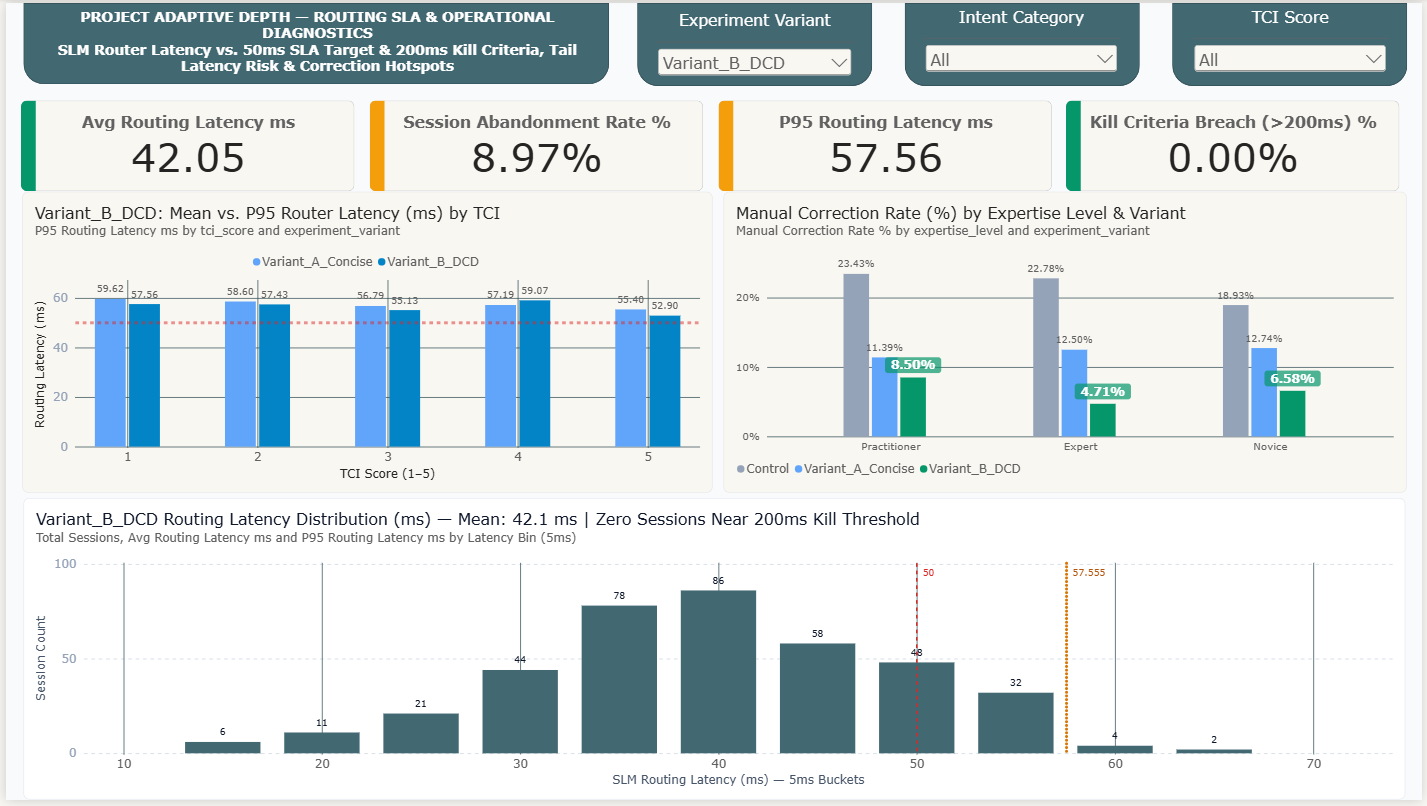

The page's visual inventory and layout, read from the dashboard file:
{"tool":"powerbi","page":{"name":"3. Routing SLA & Ops","canvas":[1920,1080],"ordinal":2},"visuals":[{"type":"shape","box":[24,0,794,110],"z":0,"group":"g6"},{"type":"group","id":"g1","title":"Group 1","box":[856.2,0,318.8,112.5],"z":0},{"type":"shape","box":[1219,0,318.8,112.5],"z":0,"group":"g2"},{"type":"shape","box":[856.2,0,318.8,112.5],"z":1000,"group":"g1"},{"type":"group","id":"g2","title":"Group 2","box":[1219,0,318.8,112.5],"z":1000},{"type":"group","id":"g3","title":"Group 3","box":[1581.7,0,318.3,113.3],"z":2000},{"type":"cardVisual","fields":{"Data":["_Measures.Avg Routing Latency ms"]},"box":[20,132,452.6,124],"z":2000,"group":"g4"},{"type":"group","id":"g4","title":"Group 4","box":[20,132,1870,124],"z":3000},{"type":"cardVisual","fields":{"Data":["_Measures.Session Abandonment Rate %"]},"box":[492.5,132,452.6,124],"z":3000,"group":"g4"},{"type":"textbox","box":[46.1,7.4,752.8,95.7],"z":4000,"group":"g6"},{"type":"cardVisual","fields":{"Data":["_Measures.P95 Routing Latency ms"]},"box":[964.9,132,452.6,124],"z":4000,"group":"g4"},{"type":"group","id":"g5","title":"Group 5","box":[22,256,1876,408],"z":4000},{"type":"group","id":"g6","title":"Group 6","box":[24,0,794,110],"z":5000},{"type":"cardVisual","fields":{"Data":["_Measures.Kill Criteria Breach (>200ms) %"]},"box":[1437.4,132,452.6,124],"z":5000,"group":"g4"},{"type":"clusteredColumnChart","title":"Variant_B_DCD: Mean vs. P95 Router Latency (ms) by TCI","fields":{"Category":["dcd_indian_token_economics_5k (2).tci_score"],"Series":["dcd_indian_token_economics_5k (2).experiment_variant"],"Y":["_Measures.P95 Routing Latency ms"]},"box":[22,256,936,408],"z":6000,"group":"g5"},{"type":"clusteredColumnChart","title":"Variant_B_DCD Routing Latency Distribution (ms) — Mean: 42.1 ms | Zero Sessions Near 200ms Kill Threshold","fields":{"Category":["dcd_indian_token_economics_5k (2).Latency Bin (5ms)"],"Y":["_Measures.Total Sessions"]},"box":[23.9,671.8,1873.6,408.6],"z":6000},{"type":"clusteredColumnChart","title":"Manual Correction Rate (%) by Expertise Level & Variant","fields":{"Category":["dcd_indian_token_economics_5k (2).expertise_level"],"Series":["dcd_indian_token_economics_5k (2).experiment_variant"],"Y":["_Measures.Manual Correction Rate %"]},"box":[972,256,926,408],"z":7000,"group":"g5"},{"type":"slicer","title":"Intent Category","fields":{"Values":["dcd_indian_token_economics_5k (2).intent_category"]},"box":[1243.4,5.6,269,99.1],"z":9000,"group":"g2"},{"type":"slicer","title":"Experiment Variant","fields":{"Values":["dcd_indian_token_economics_5k (2).experiment_variant"]},"box":[880,10,271.4,94.3],"z":10000,"group":"g1"},{"type":"shape","box":[1581.7,0,318.8,112.5],"z":13000,"group":"g3"},{"type":"slicer","title":"TCI Score","fields":{"Values":["dcd_indian_token_economics_5k (2).tci_score"]},"box":[1606.3,4.4,269,99.1],"z":14000,"group":"g3"}]}

Visuals, with their boxes in screenshot pixels (x1, y1, x2, y2), scaled from the page's 1920x1080 canvas onto the 1427x806 screenshot:
shape: {"left": 18, "top": 0, "right": 608, "bottom": 82}
"Group 1" group: {"left": 636, "top": 0, "right": 873, "bottom": 84}
shape: {"left": 906, "top": 0, "right": 1143, "bottom": 84}
shape: {"left": 636, "top": 0, "right": 873, "bottom": 84}
"Group 2" group: {"left": 906, "top": 0, "right": 1143, "bottom": 84}
"Group 3" group: {"left": 1176, "top": 0, "right": 1412, "bottom": 85}
cardVisual - _Measures.Avg Routing Latency ms: {"left": 15, "top": 99, "right": 351, "bottom": 191}
"Group 4" group: {"left": 15, "top": 99, "right": 1405, "bottom": 191}
cardVisual - _Measures.Session Abandonment Rate %: {"left": 366, "top": 99, "right": 702, "bottom": 191}
textbox: {"left": 34, "top": 6, "right": 594, "bottom": 77}
cardVisual - _Measures.P95 Routing Latency ms: {"left": 717, "top": 99, "right": 1054, "bottom": 191}
"Group 5" group: {"left": 16, "top": 191, "right": 1411, "bottom": 496}
"Group 6" group: {"left": 18, "top": 0, "right": 608, "bottom": 82}
cardVisual - _Measures.Kill Criteria Breach (>200ms) %: {"left": 1068, "top": 99, "right": 1405, "bottom": 191}
"Variant_B_DCD: Mean vs. P95 Router Latency (ms) by TCI" clusteredColumnChart: {"left": 16, "top": 191, "right": 712, "bottom": 496}
"Variant_B_DCD Routing Latency Distribution (ms) — Mean: 42.1 ms | Zero Sessions Near 200ms Kill Threshold" clusteredColumnChart: {"left": 18, "top": 501, "right": 1410, "bottom": 805}
"Manual Correction Rate (%) by Expertise Level & Variant" clusteredColumnChart: {"left": 722, "top": 191, "right": 1411, "bottom": 496}
"Intent Category" slicer: {"left": 924, "top": 4, "right": 1124, "bottom": 78}
"Experiment Variant" slicer: {"left": 654, "top": 7, "right": 856, "bottom": 78}
shape: {"left": 1176, "top": 0, "right": 1413, "bottom": 84}
"TCI Score" slicer: {"left": 1194, "top": 3, "right": 1394, "bottom": 77}
